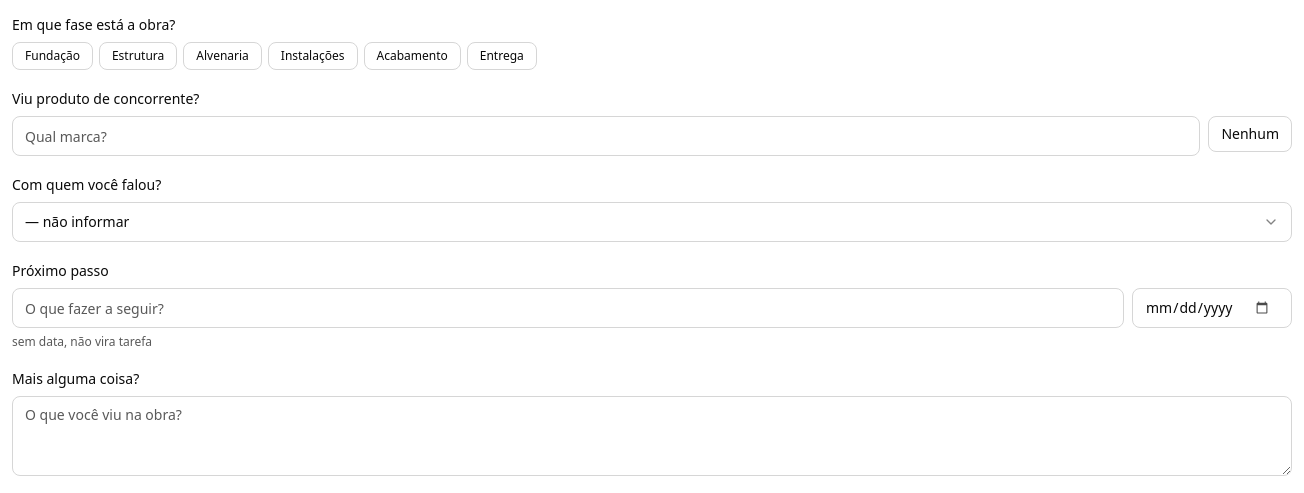
Scenario: com quem falou › lista os contatos do cliente vindos de useContatosDoCliente
This screenshot has width=1304, height=493.
What coordinates should you click on to do the following:
click the dropdown
I would click on:
 (77, 222)
Its box is top-left (12, 202), bottom-right (1292, 242).
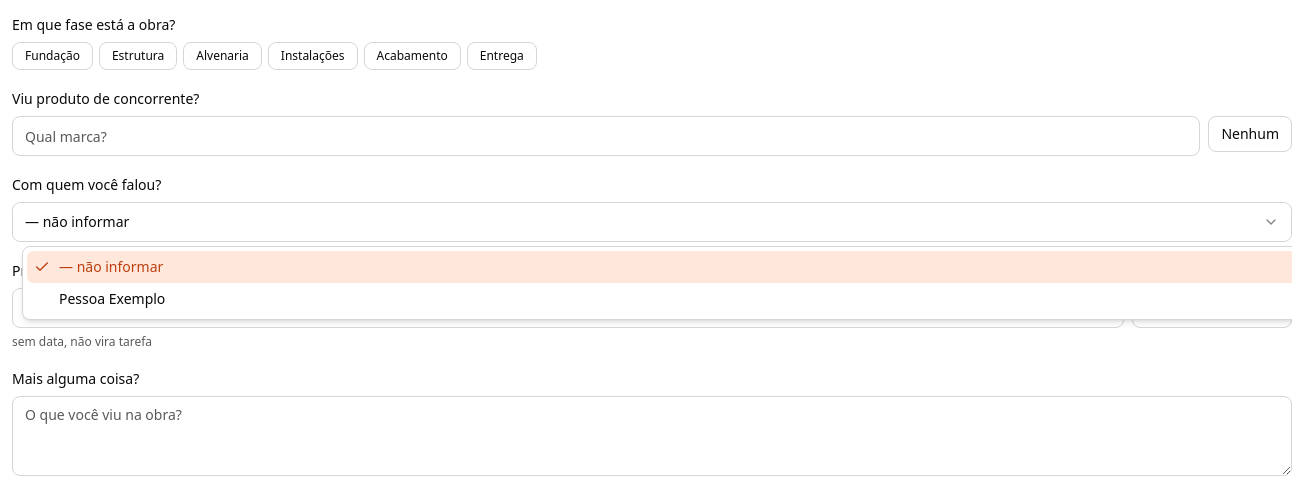
Expected: the text "Pessoa Exemplo" is shown, top-left (59, 289), bottom-right (165, 309)
